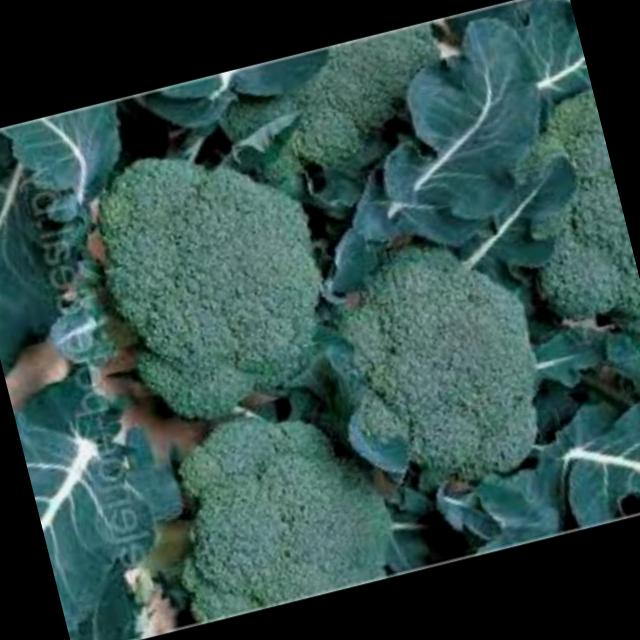Broccoli: (72, 104, 366, 433), (298, 185, 576, 512), (144, 356, 433, 626), (234, 12, 501, 215), (467, 65, 640, 372)
